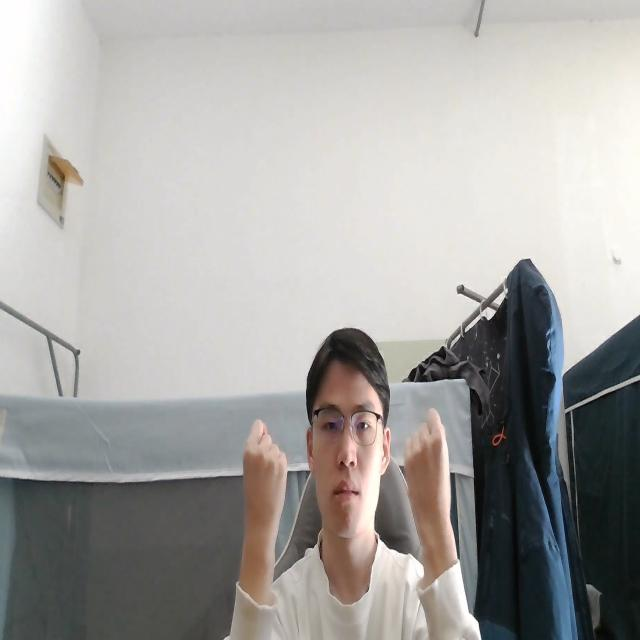ten: (402, 403, 452, 546), (239, 413, 290, 546)
